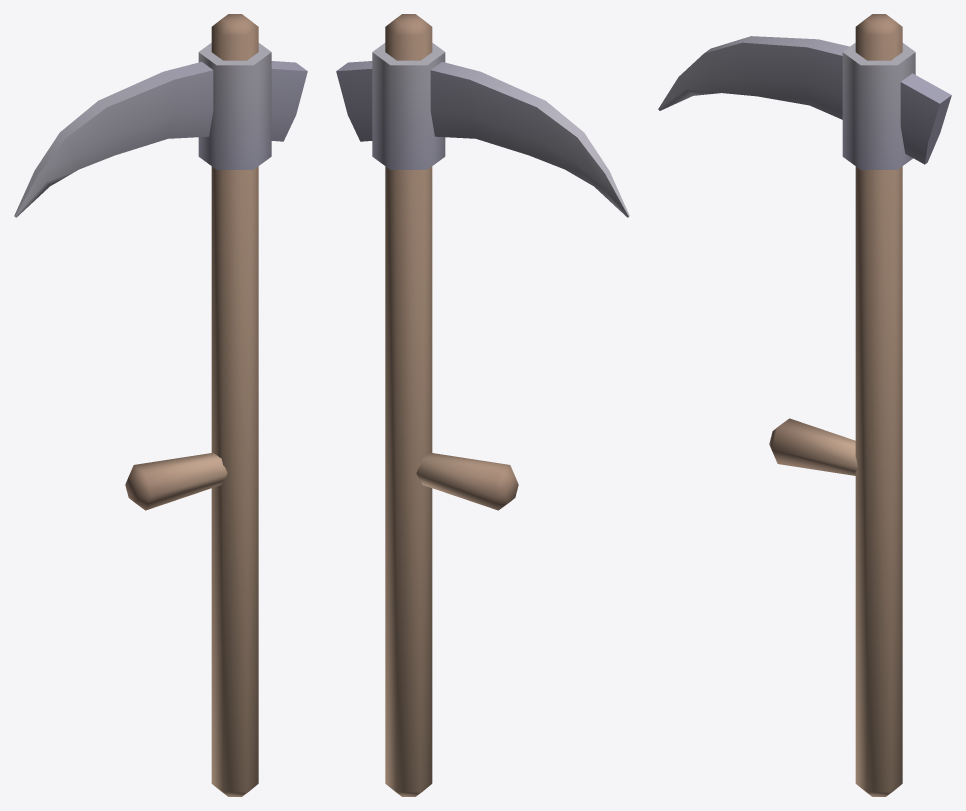
The model's file is tool-scythe.glb.
3 views of the same model, side by side, from view 1: azimuth 30°, elevation 25°; view 2: azimuth 150°, elevation 25°; view 3: azimuth 330°, elevation 25° (orthographic).
Parts seen in each view (by area): view 1: tool-scythe; view 2: tool-scythe; view 3: tool-scythe.
Boxes of the visible parts, x1=… form: tool-scythe: x1=14, y1=14, x2=307, y2=796; tool-scythe: x1=336, y1=14, x2=629, y2=796; tool-scythe: x1=658, y1=14, x2=951, y2=796.
Bounding box in the file's own units: 0.3741 × 0.9619 × 0.0825.
